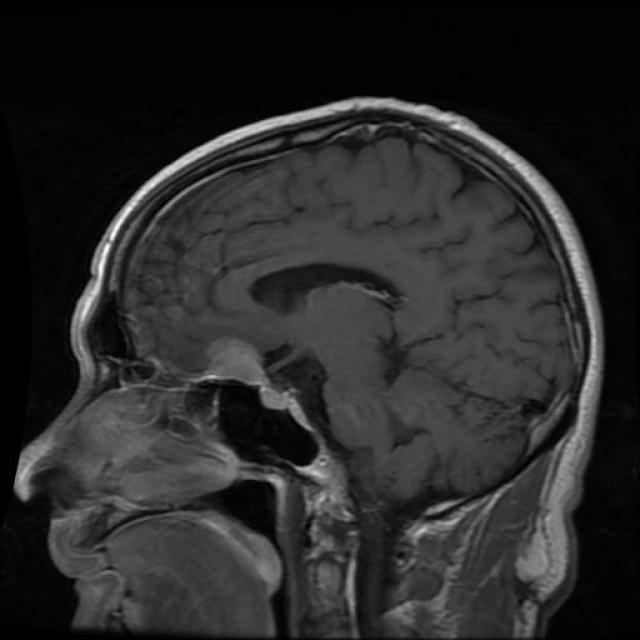meningioma: (206, 340, 268, 385)
